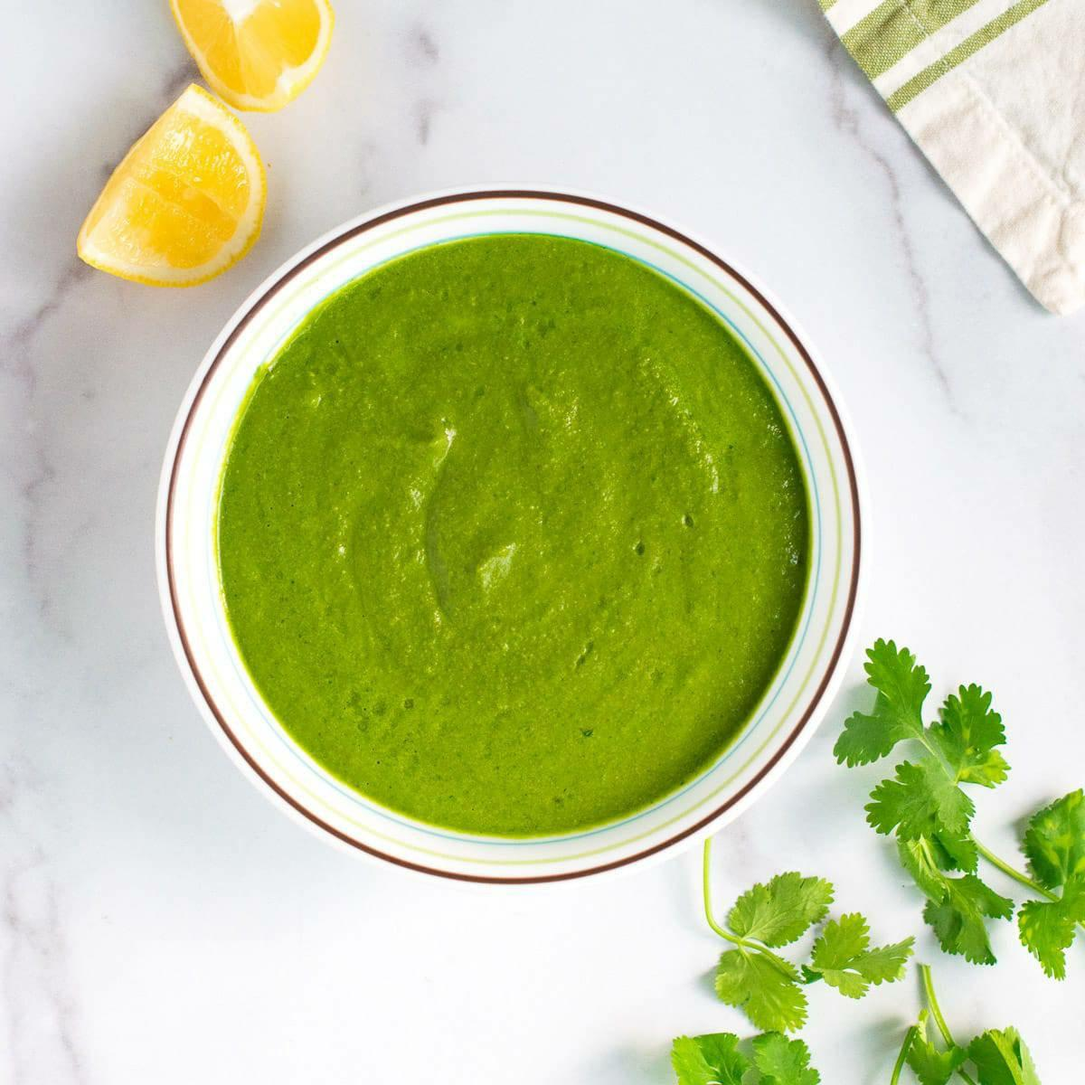GreenChutney: (218, 231, 807, 828)
